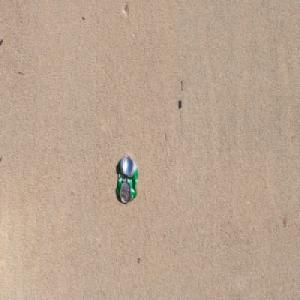SodaCan: (116, 154, 139, 204)
